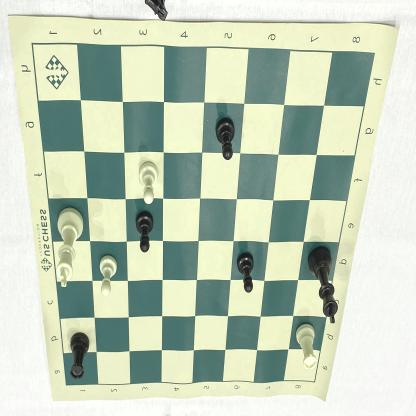black-king: (304, 239, 342, 327)
black-pawn: (210, 111, 238, 167), (232, 248, 258, 298), (130, 210, 156, 258)
black-rook: (64, 326, 92, 384)
white-king: (50, 202, 88, 293)
white-pawn: (135, 156, 162, 206), (96, 250, 121, 298)
white-rook: (292, 317, 319, 374)
